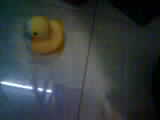duck: (24, 13, 69, 58)
